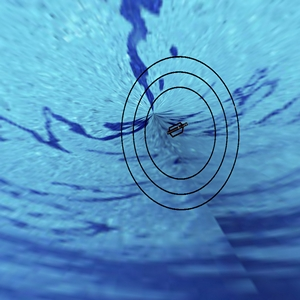circle: (115, 45, 247, 219)
submarine: (163, 112, 190, 152)
